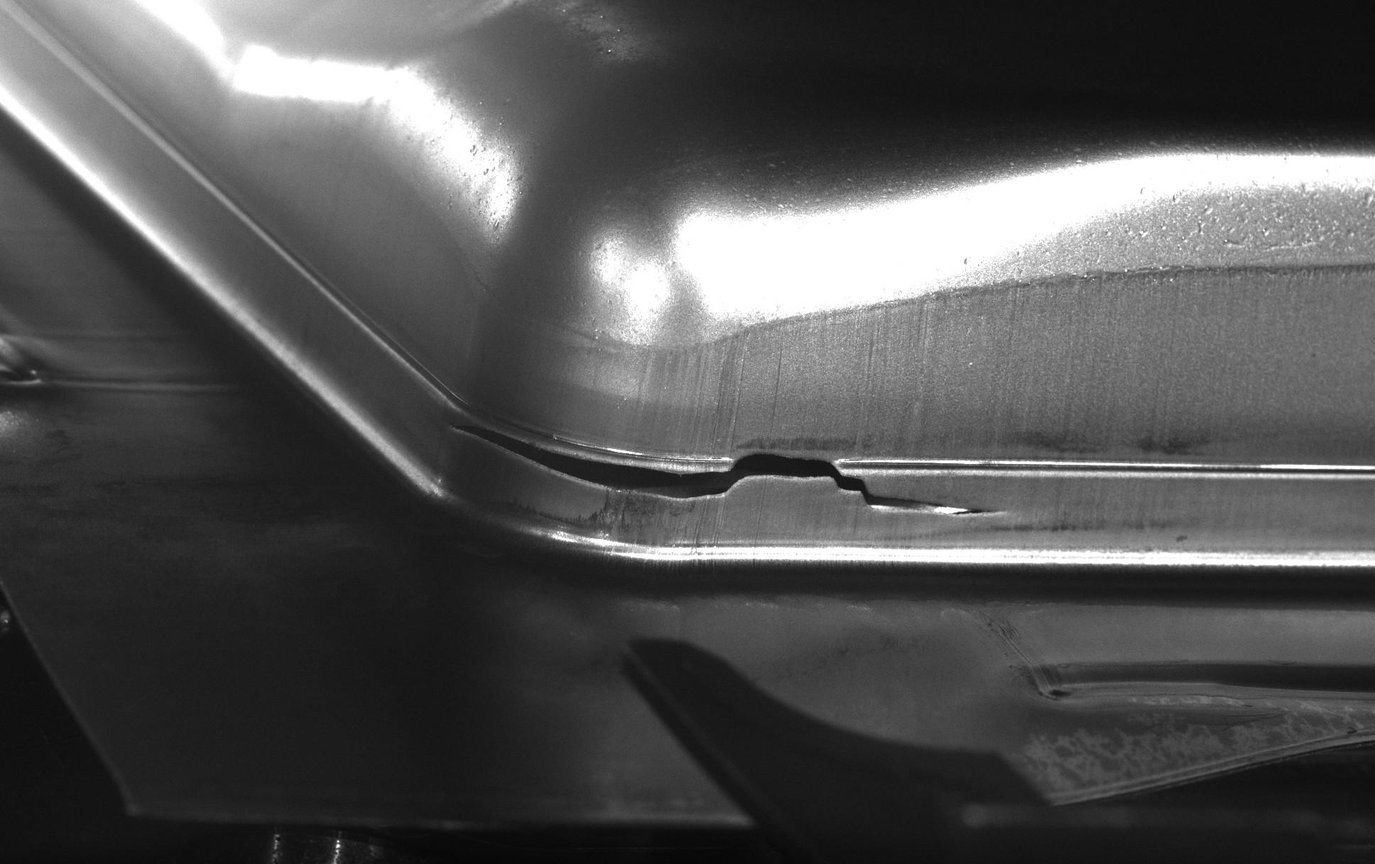crack: (424, 352, 1018, 534)
